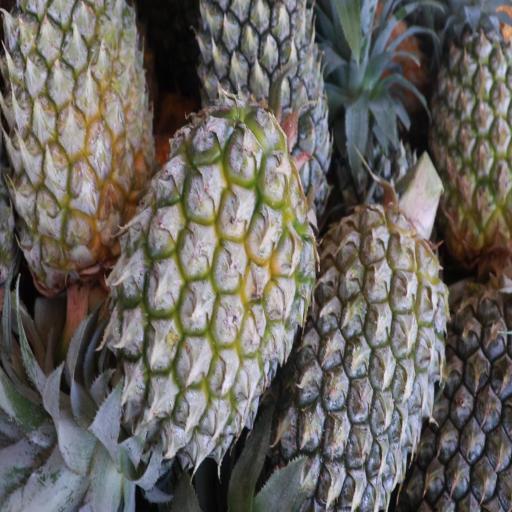------------------------------: (114, 121, 298, 458), (5, 0, 159, 280), (428, 15, 510, 242)
